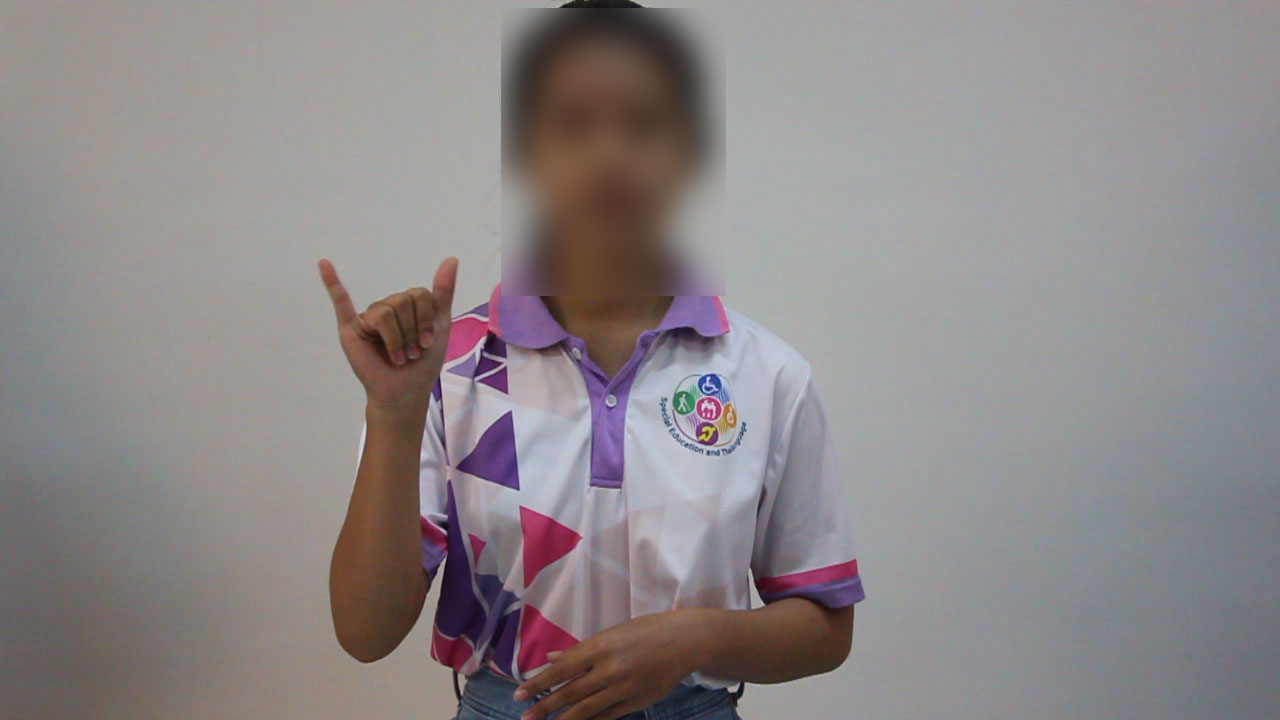yor: (300, 244, 483, 402)
